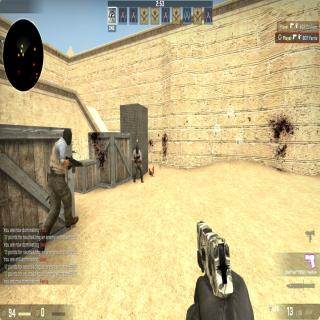T-Body: (40, 128, 76, 248), (131, 144, 143, 183)
T-Head: (61, 126, 74, 148), (135, 143, 140, 155)
